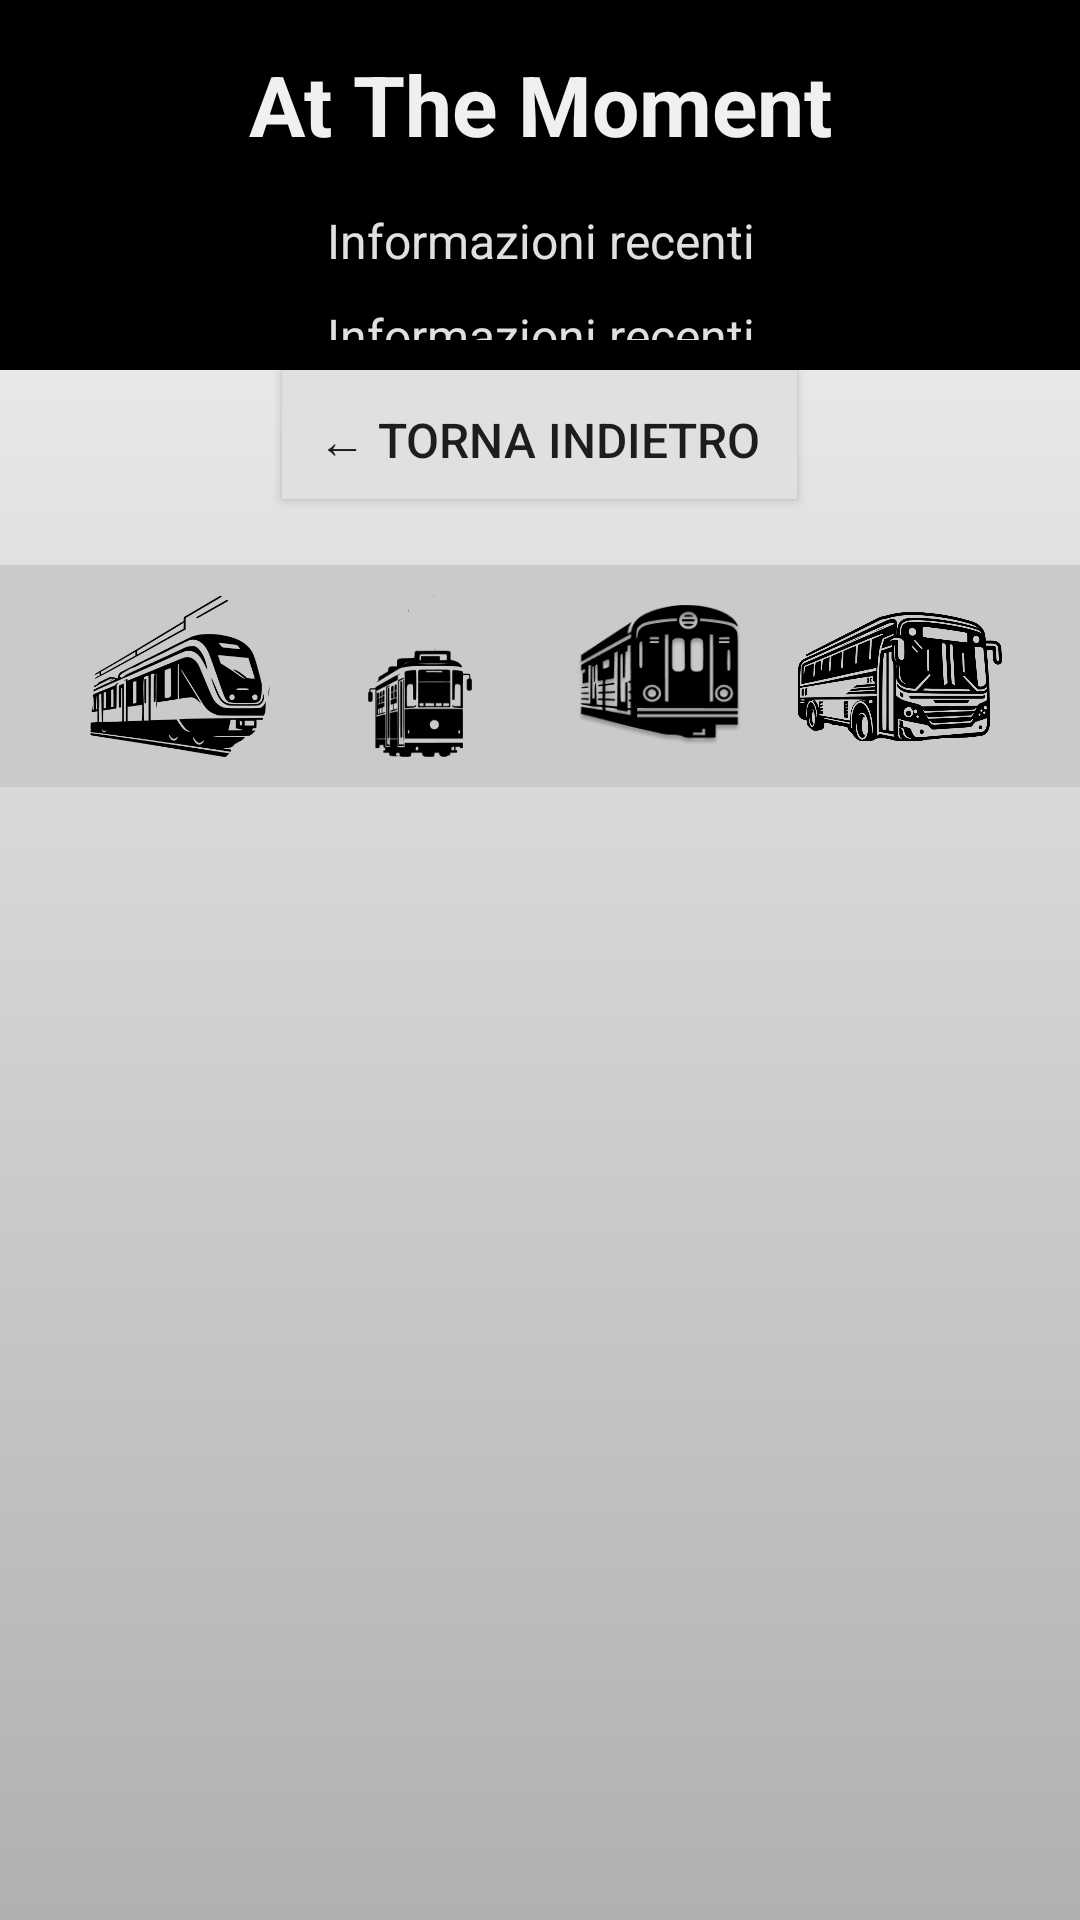

Icon click points for this 1080*1920 phone screenshot, format [x,y]:
bus: [900,676]
metro: [659,673]
train: [180,676]
tram: [420,676]
